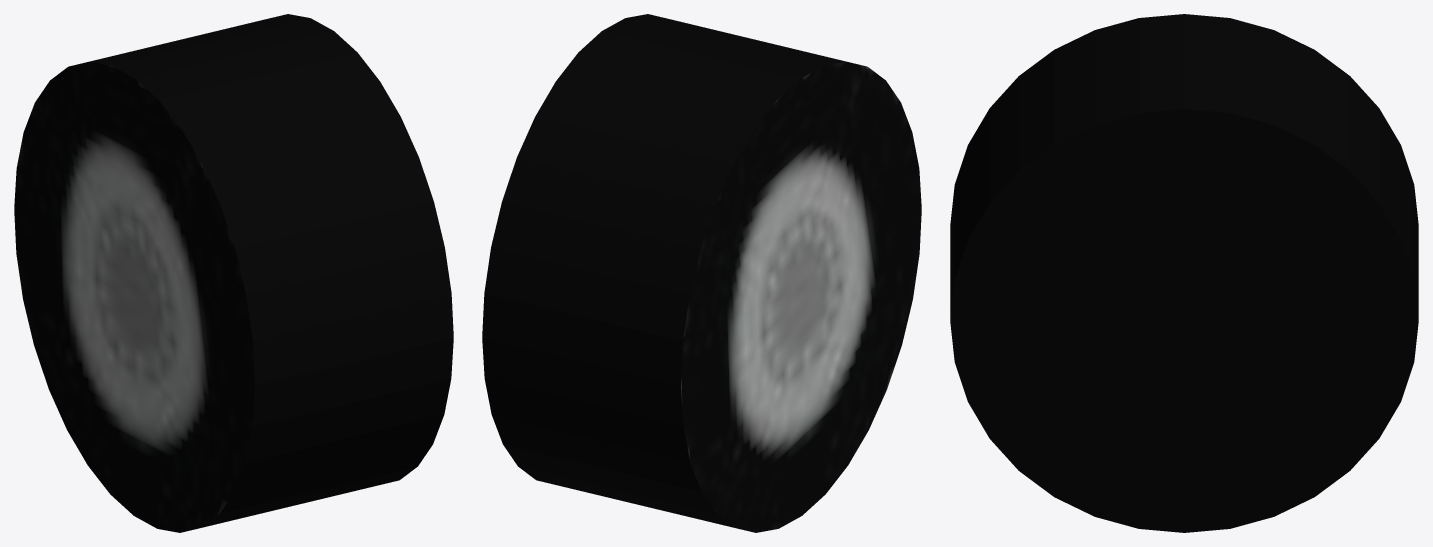
The model's file is rueda2.obj.
The picture shows the model from 3 angles, left to right: view 1: azimuth 30°, elevation 25°; view 2: azimuth 150°, elevation 25°; view 3: azimuth 270°, elevation 25°; orthographic projection. The views are drawn at different scales.
Visible parts, largest first — view 1: rueda12; view 2: rueda12; view 3: rueda12.
Boxes of the visible parts, x1=… form: rueda12: x1=14, y1=14, x2=453, y2=532; rueda12: x1=482, y1=14, x2=921, y2=532; rueda12: x1=950, y1=14, x2=1418, y2=532.
Bounding box in the file's own units: 1.42 × 2.97 × 2.96.
